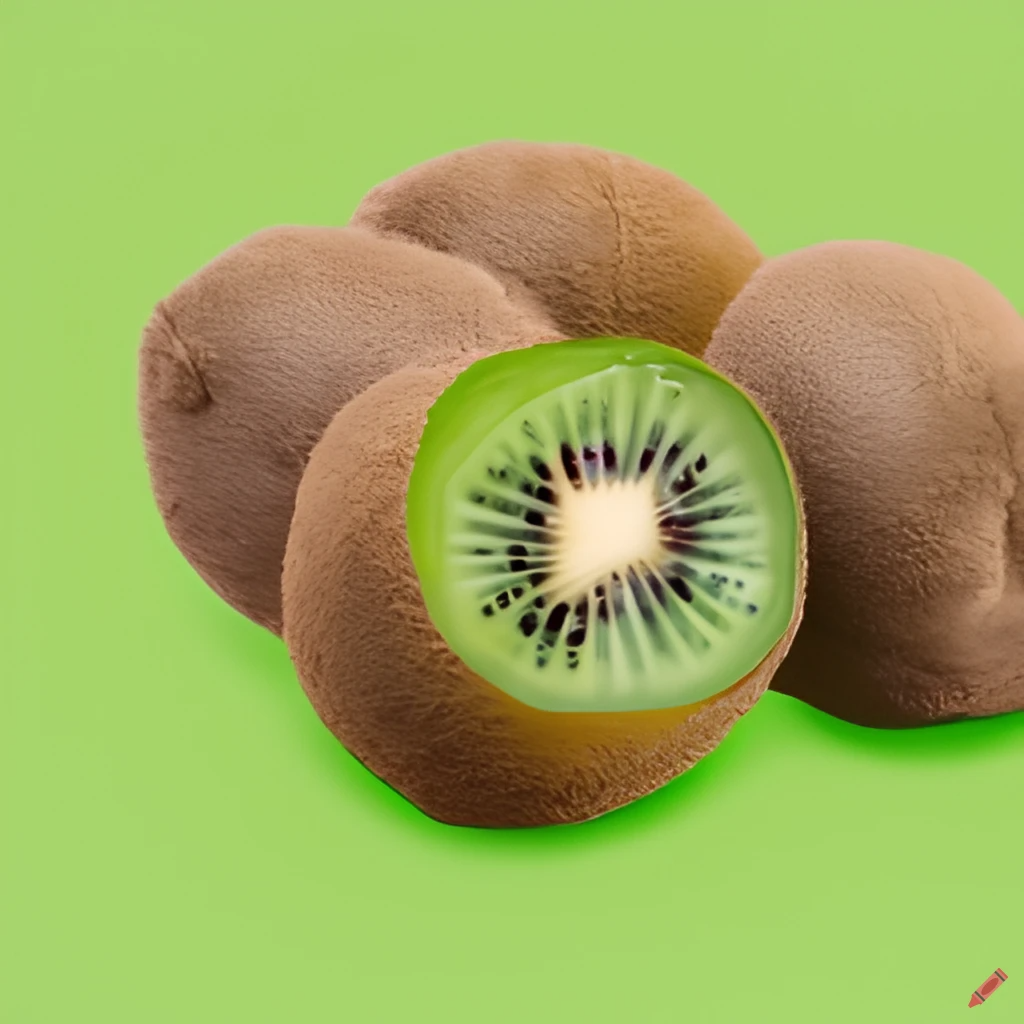Kiwi: (222, 315, 808, 823)
